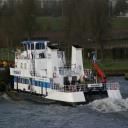tugboat: (6, 40, 125, 111)
